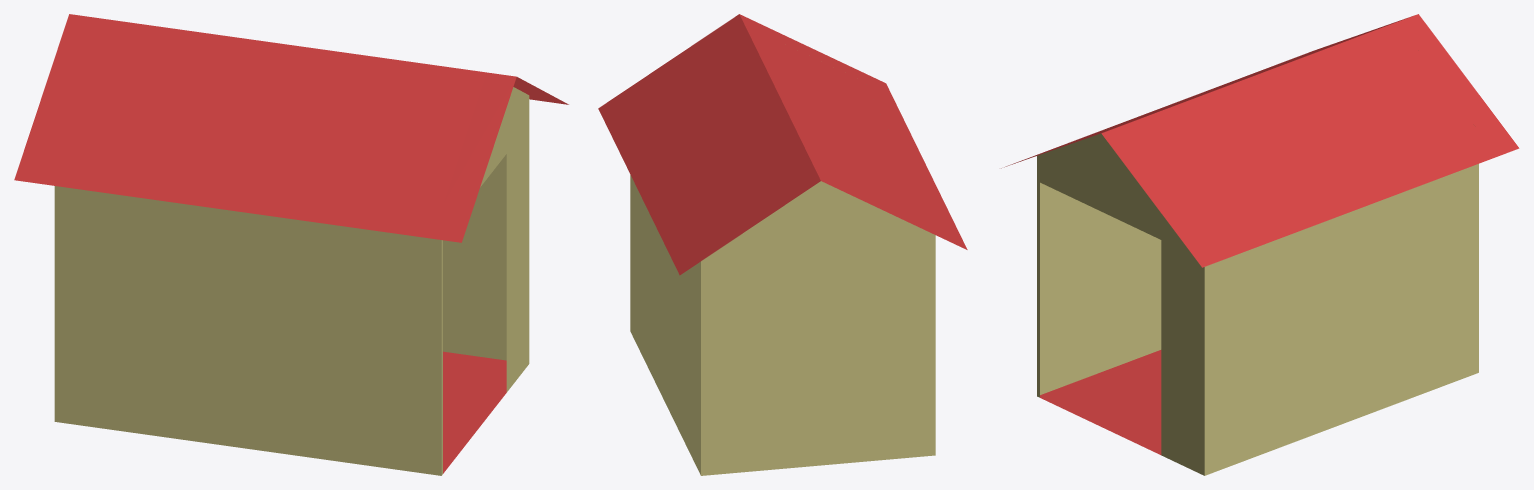
3 views of the same model, side by side, from view 1: azimuth 30°, elevation 25°; view 2: azimuth 150°, elevation 25°; view 3: azimuth 270°, elevation 25° (orthographic). The views are drawn at different scales.
Bounding box in the file's own units: 17.86 × 18.19 × 11.97.
